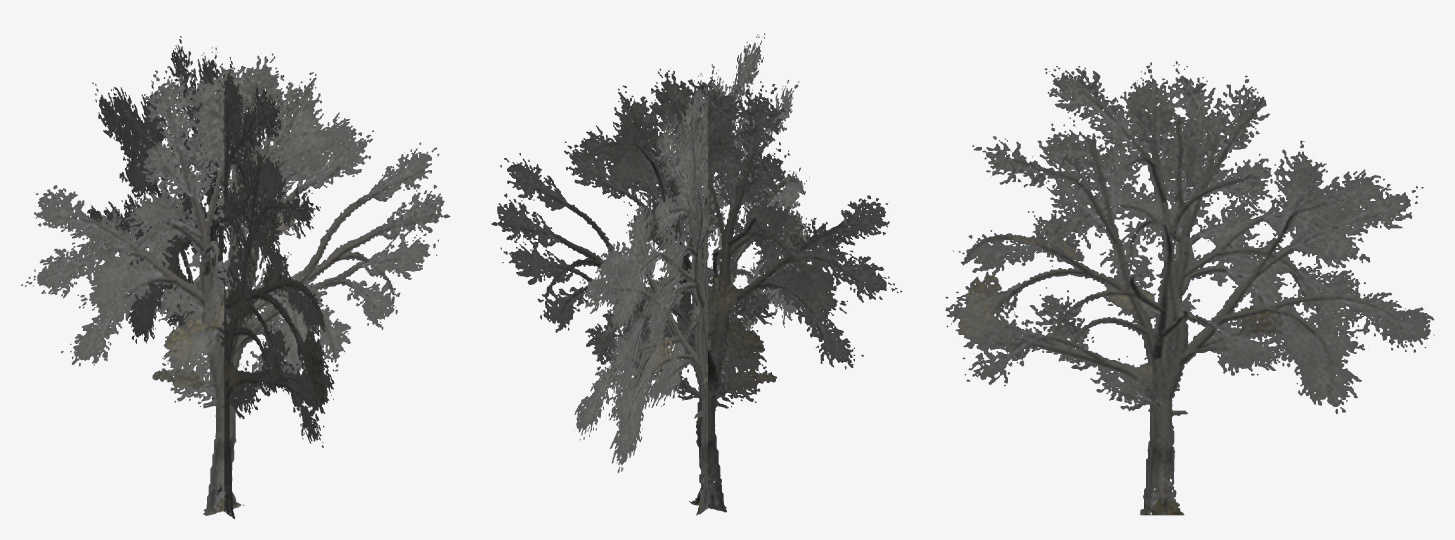
File: Billboard_Oak_01.fbx
3 views of the same model, side by side, from view 1: azimuth 30°, elevation 25°; view 2: azimuth 150°, elevation 25°; view 3: azimuth 270°, elevation 25° (orthographic). The views are drawn at different scales.
Visible parts, largest first — view 1: Billboard_Oak_01; view 2: Billboard_Oak_01; view 3: Billboard_Oak_01.
Boxes of the visible parts, bbox=[...] form: Billboard_Oak_01: bbox=[21, 36, 450, 519]; Billboard_Oak_01: bbox=[491, 33, 902, 515]; Billboard_Oak_01: bbox=[945, 61, 1434, 515].
Size of the model in its own units: 897 by 907 by 896.
